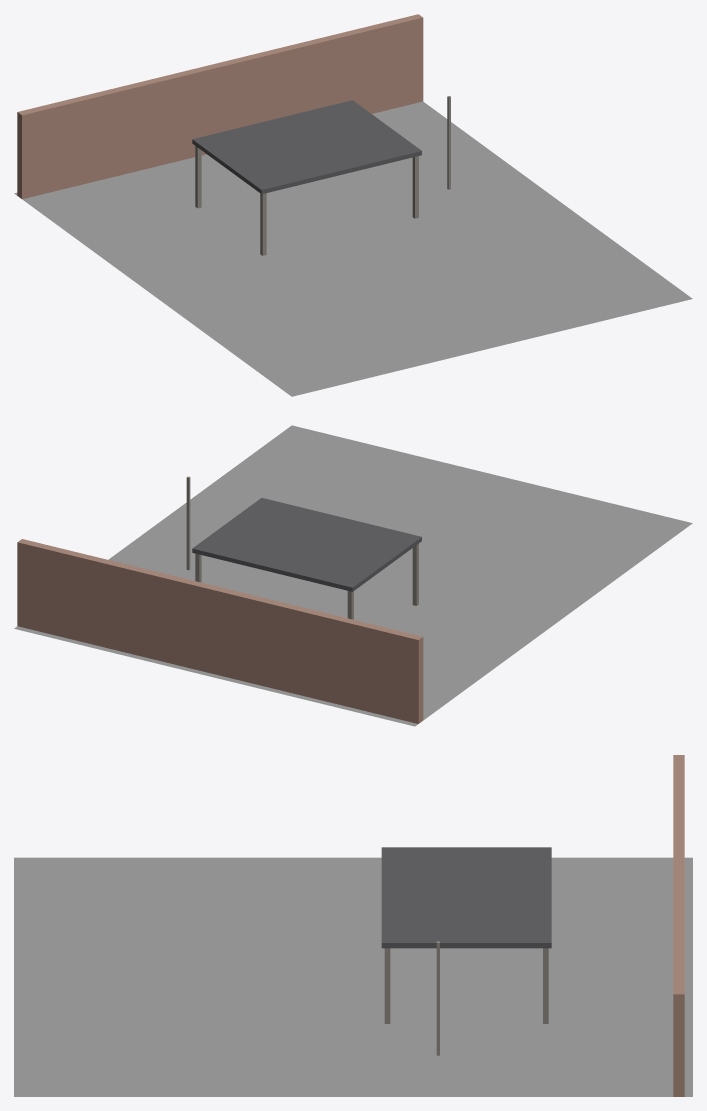
Rendered from rain_relief_fixture.gltf.
3 views of the same model, one above another, from view 1: azimuth 30°, elevation 25°; view 2: azimuth 150°, elevation 25°; view 3: azimuth 270°, elevation 25° (orthographic). The views are drawn at different scales.
Visible parts, largest first — view 1: ground_relief, wall, roof; view 2: ground_relief, wall, roof, lamp_pole; view 3: ground_relief, roof, wall, post_b.
Boxes of the visible parts, left/top/right/bottom form: ground_relief: left=14, top=101, right=692, bottom=396; wall: left=17, top=14, right=423, bottom=199; roof: left=192, top=100, right=421, bottom=194; ground_relief: left=14, top=425, right=692, bottom=726; wall: left=17, top=539, right=423, bottom=723; roof: left=192, top=498, right=421, bottom=591; lamp_pole: left=186, top=476, right=190, bottom=570; ground_relief: left=14, top=857, right=692, bottom=1096; roof: left=381, top=847, right=551, bottom=948; wall: left=673, top=755, right=684, bottom=1096; post_b: left=384, top=948, right=390, bottom=1023.
Size of the model in its own units: 20 by 4.4 by 24.
4 materials, 1 textured.
